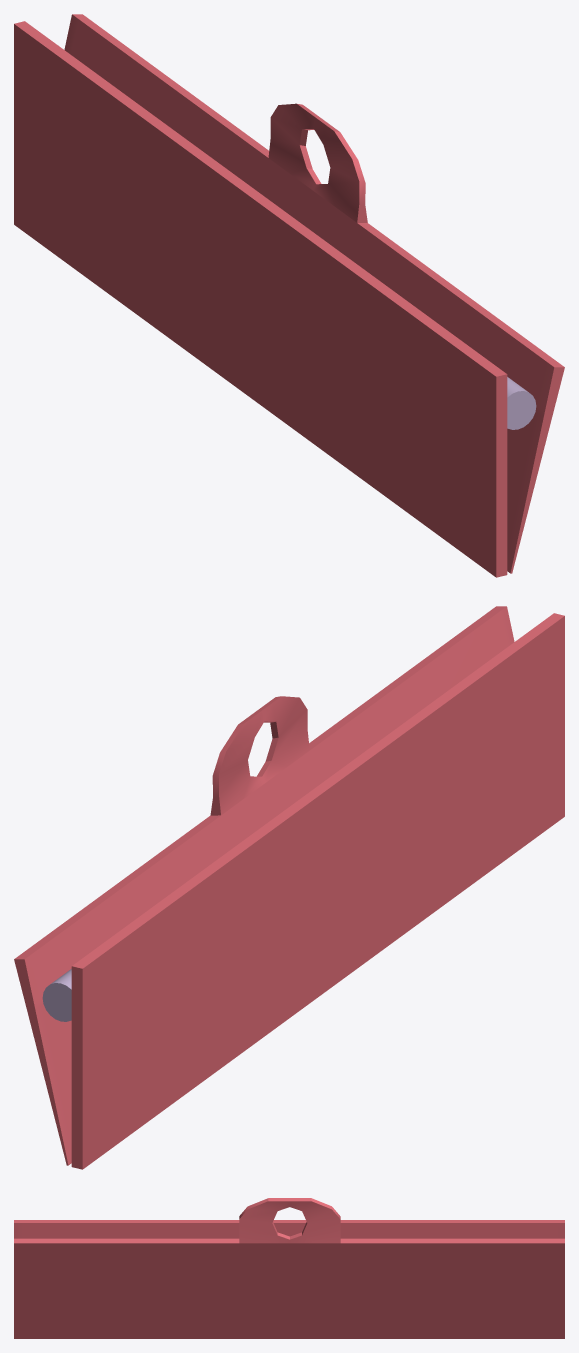
Rendered from Clippy.fbx.
3 views of the same model, one above another, from view 1: azimuth 30°, elevation 25°; view 2: azimuth 150°, elevation 25°; view 3: azimuth 270°, elevation 25° (orthographic). The views are drawn at different scales.
Visible parts, largest first — view 1: pCylinder2; view 2: pCylinder2; view 3: pCylinder2.
Boxes of the visible parts, x1,y1,x2,y2 form: pCylinder2: (14,14,564,577); pCylinder2: (14,606,564,1169); pCylinder2: (14,1198,564,1338).
Bounding box in the file's own units: 0.3577 × 1.34 × 4.35.
